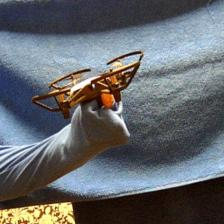drone: (32, 50, 146, 118)
